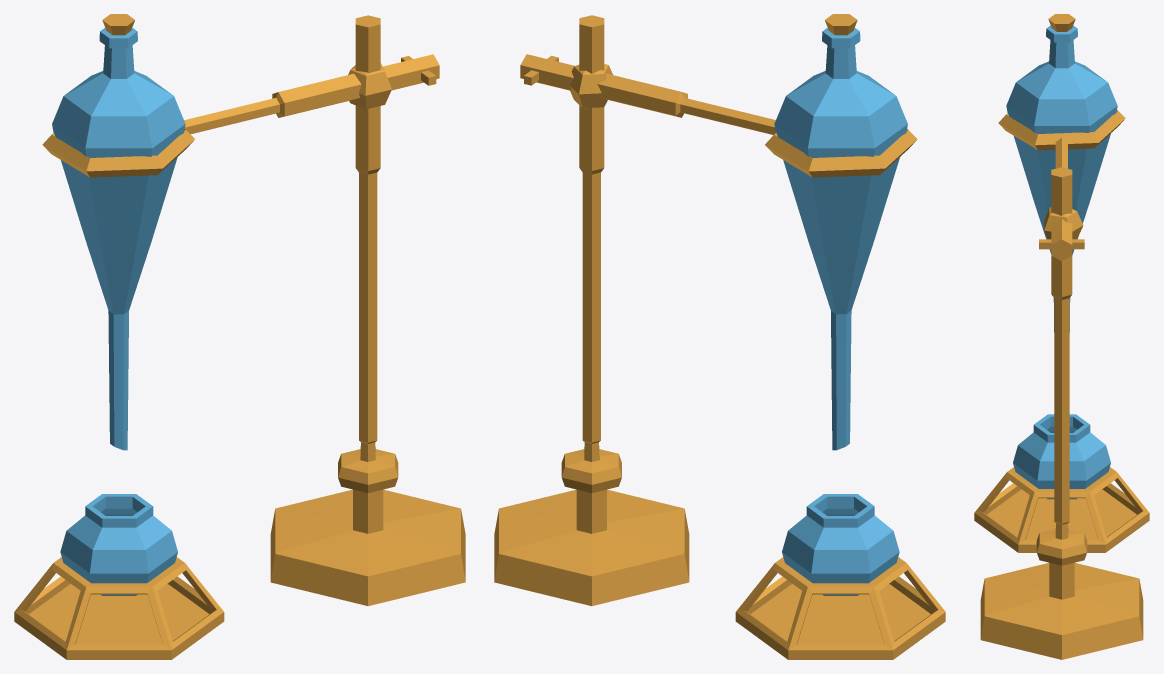
Rendered from SM_Stand_Alchemy_A.fbx.
3 views of the same model, side by side, from view 1: azimuth 30°, elevation 25°; view 2: azimuth 150°, elevation 25°; view 3: azimuth 270°, elevation 25° (orthographic). The views are drawn at different scales.
Visible parts, largest first — view 1: stand-alchemy-a; view 2: stand-alchemy-a; view 3: stand-alchemy-a.
Part boxes in pixels (box(x1,y1,x2,y2)): stand-alchemy-a: box(14, 14, 465, 659); stand-alchemy-a: box(494, 14, 945, 659); stand-alchemy-a: box(974, 14, 1149, 659).
Bounding box in the file's own units: 0.7863 × 1.06 × 0.3362.
